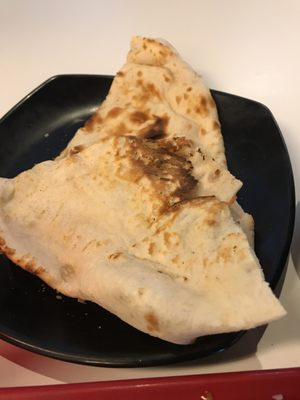sandwich: (0, 41, 285, 348)
